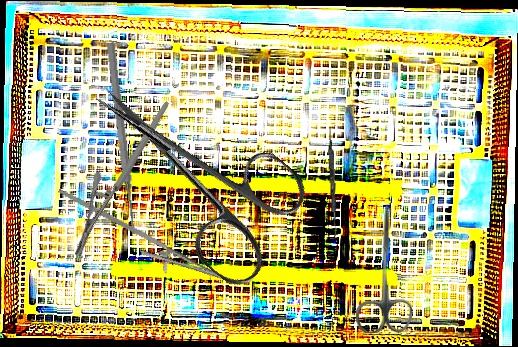Iris Scissors: (57, 45, 323, 294), (356, 204, 412, 333)
Needle Holder: (37, 101, 208, 259), (44, 188, 234, 294)
Pusher: (104, 41, 140, 237)
Spatula Surgical: (325, 126, 340, 240)
